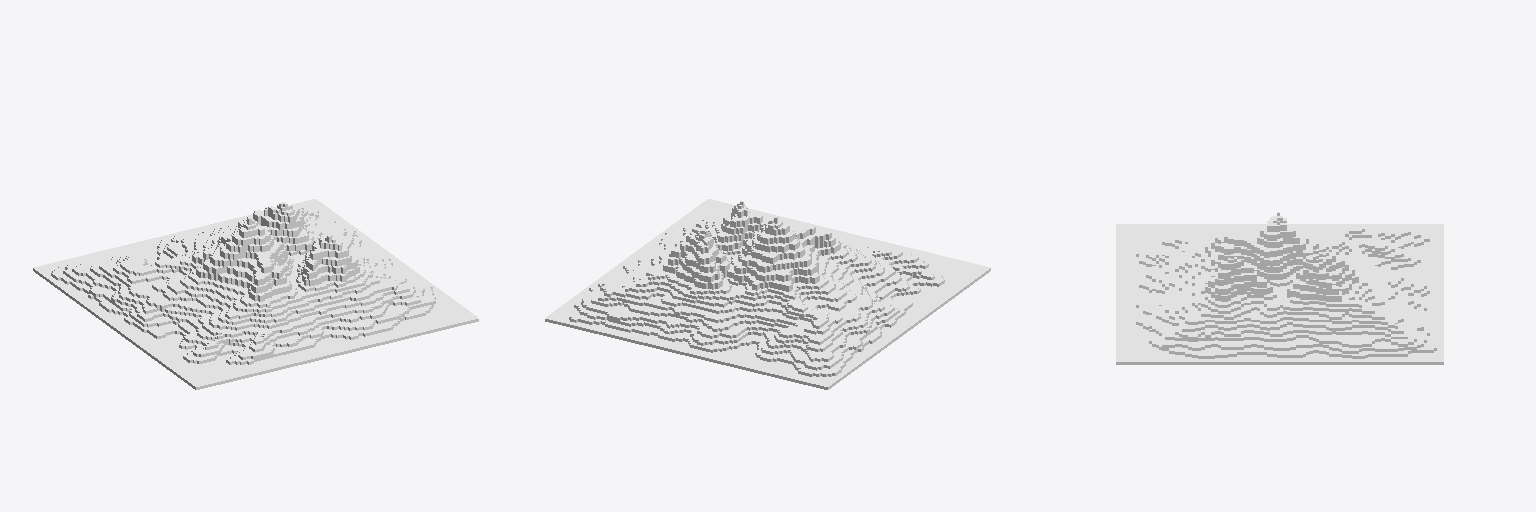
File: Mountains1.obj
3 views of the same model, side by side, from view 1: azimuth 30°, elevation 25°; view 2: azimuth 150°, elevation 25°; view 3: azimuth 270°, elevation 25° (orthographic).
Visible parts, largest first — view 1: object 1; view 2: object 1; view 3: object 1.
Boxes of the visible parts, x1,y1,x2,y2 form: object 1: [33, 199, 478, 389]; object 1: [545, 199, 990, 389]; object 1: [1116, 212, 1443, 364].
Bounding box in the file's own units: 10 × 2.7 × 10.